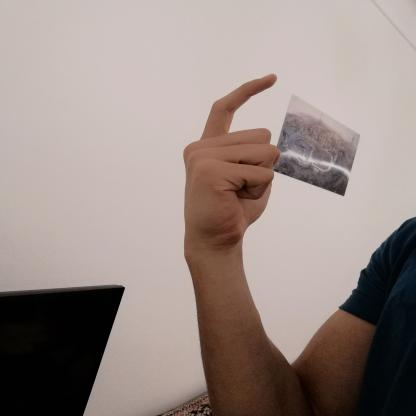RAA: (169, 61, 296, 255)
